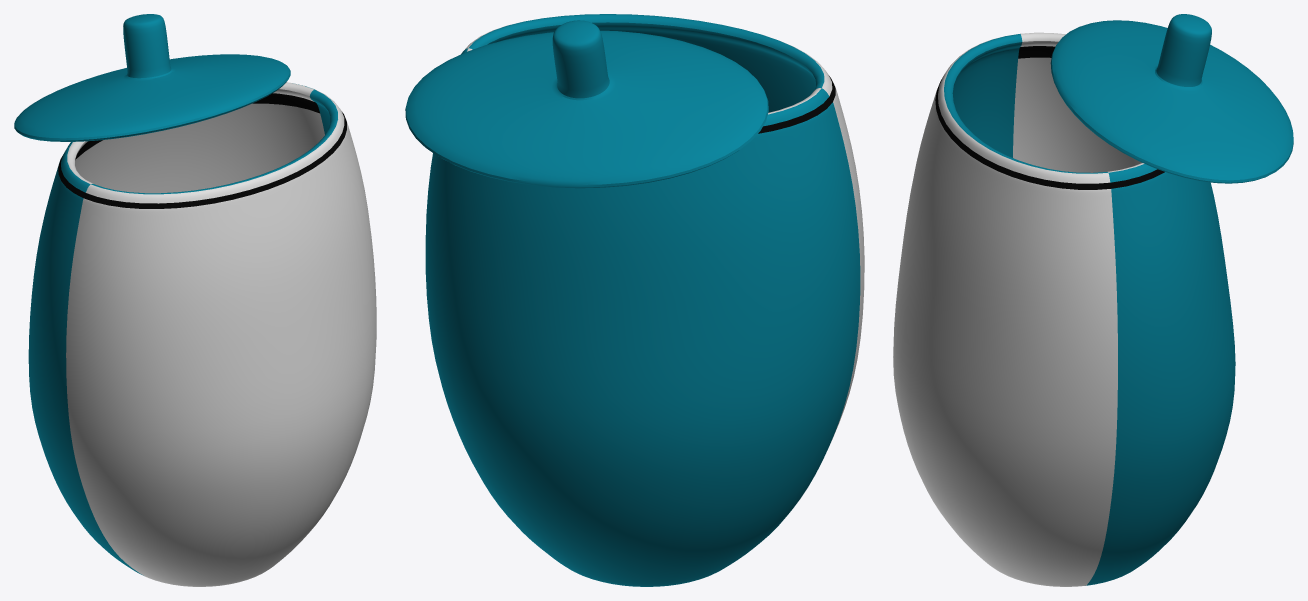
Rendered from jar.fbx.
3 views of the same model, side by side, from view 1: azimuth 30°, elevation 25°; view 2: azimuth 150°, elevation 25°; view 3: azimuth 270°, elevation 25° (orthographic). The views are drawn at different scales.
Parts seen in each view (by area): view 1: 罐子, 盖子; view 2: 罐子, 盖子; view 3: 罐子, 盖子.
Boxes of the visible parts, x1,y1,x2,y2 form: 罐子: [28, 82, 376, 586]; 盖子: [14, 14, 290, 141]; 罐子: [425, 14, 864, 586]; 盖子: [405, 20, 768, 188]; 罐子: [893, 32, 1235, 586]; 盖子: [1050, 14, 1293, 183].
Size of the model in its own units: 19.03 by 27.57 by 18.67.
